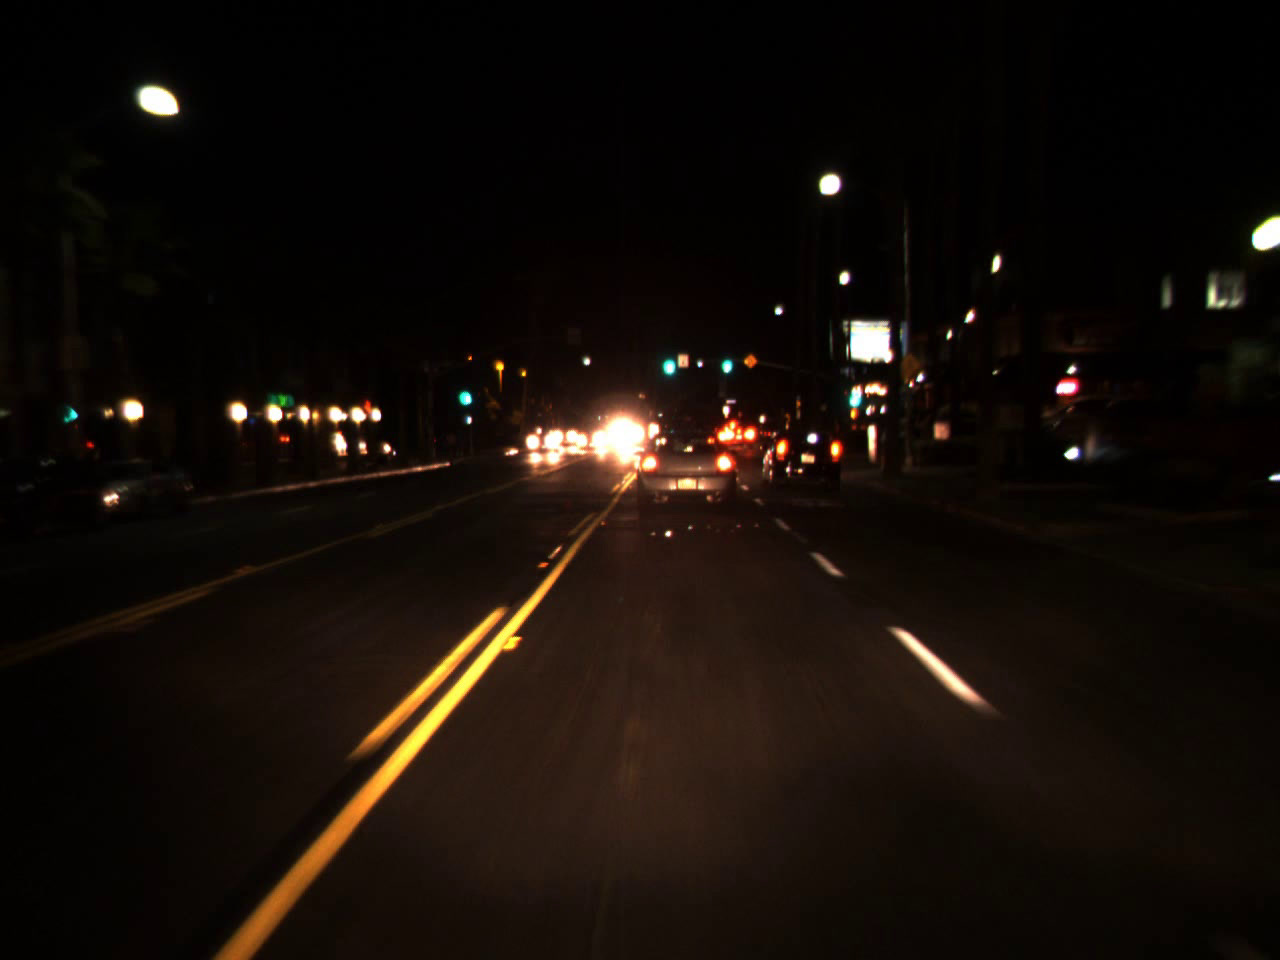go: (841, 375, 864, 411), (658, 341, 677, 380), (456, 374, 470, 410), (717, 347, 733, 374)
